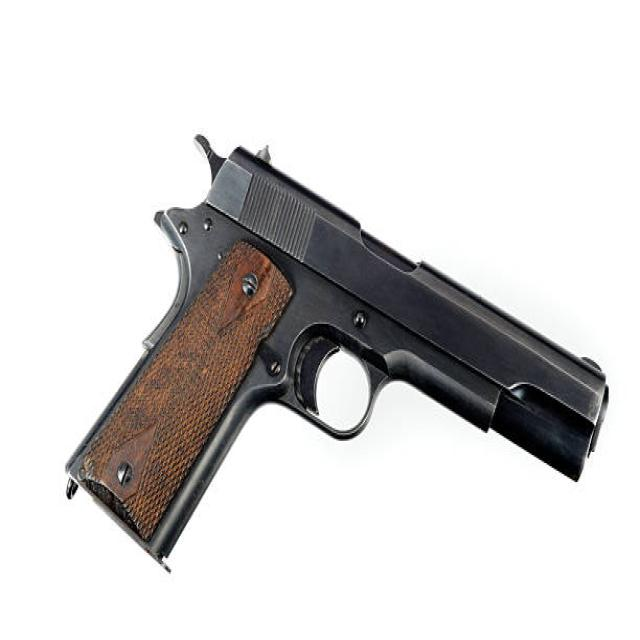pistol: (62, 121, 615, 580)
